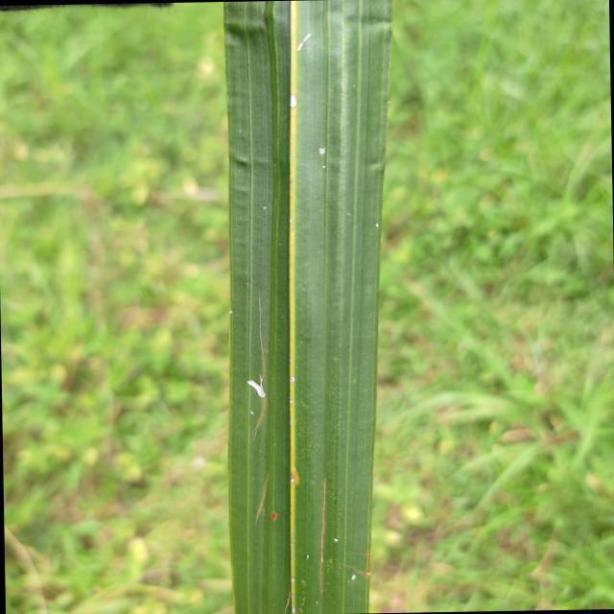Boron: (222, 3, 396, 614)
